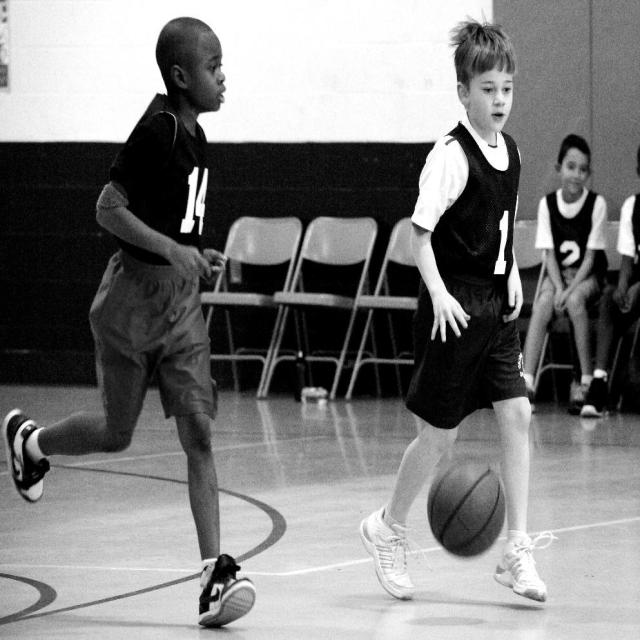Ball: (428, 453, 505, 556)
